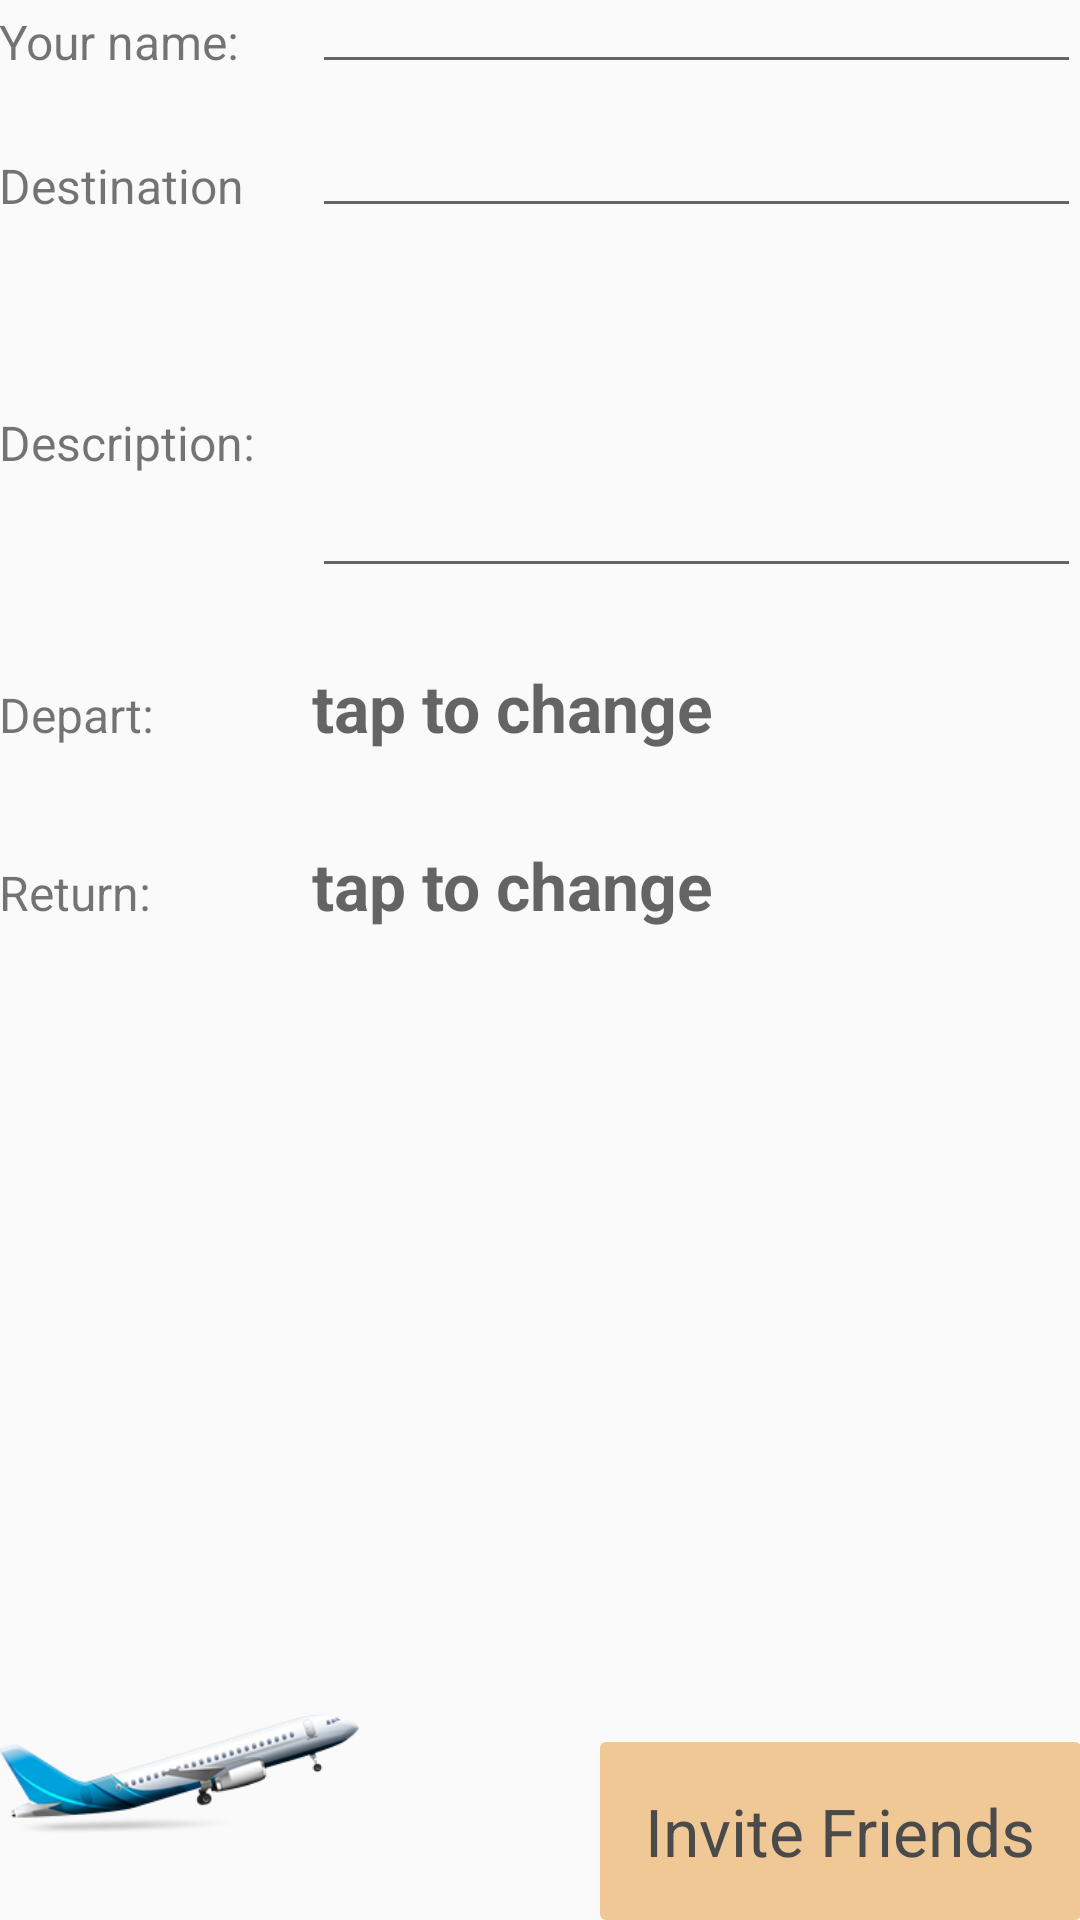

Named icons in this screenshot (1080 × 1920) and their centers, [x,y]:
airplane: [179,1774]
